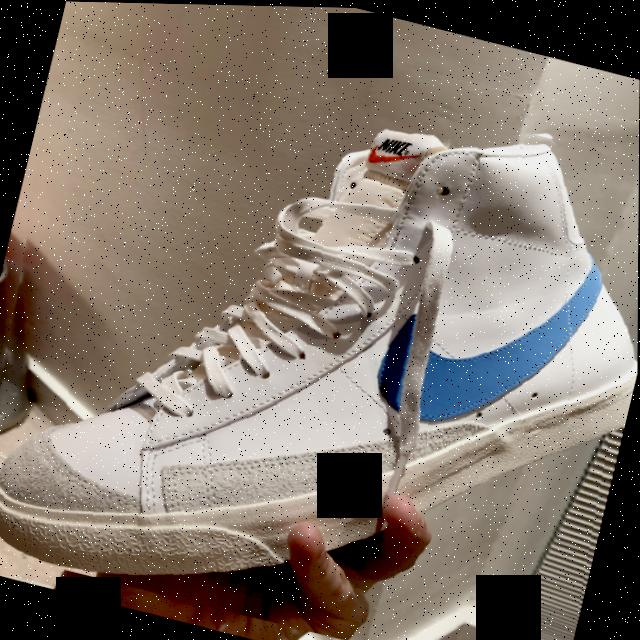shoe: (0, 3, 640, 640)
